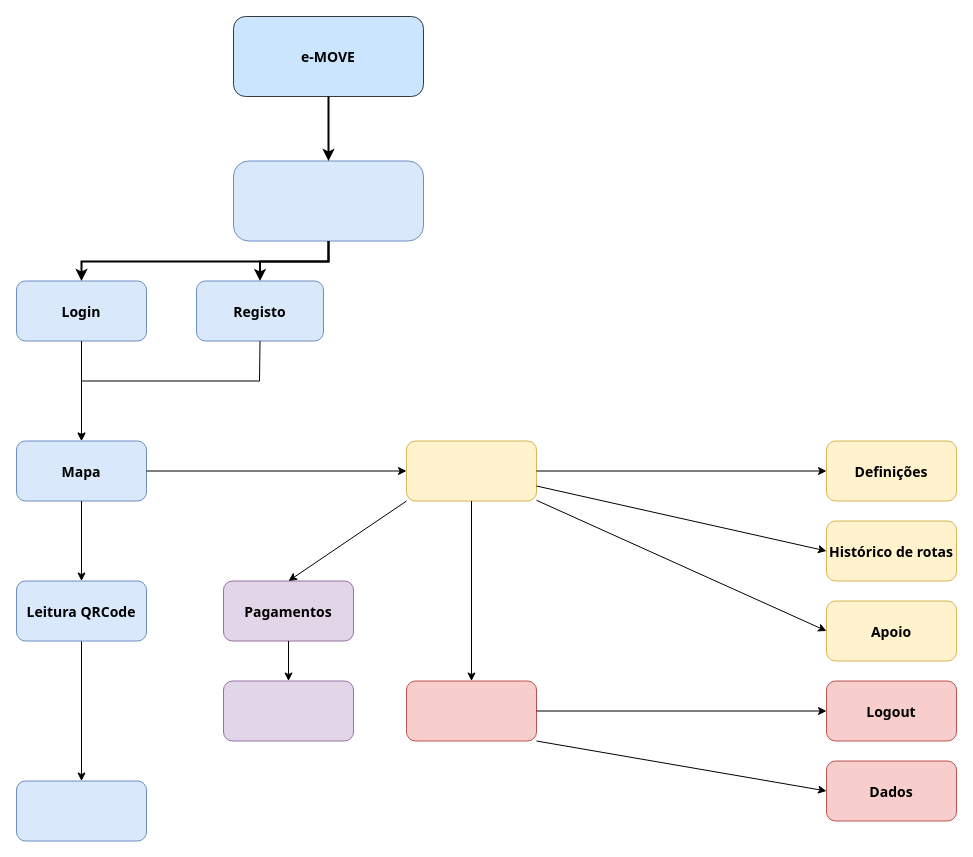
Some shapes in this 973 by 857 pixel diagram are drawn without their labels. The shapes that lost their labels are listed below. From the top down, each one's box as (x1, y1, x2, y2) in pixels, then its label:
(232, 160, 424, 241): Splash Screen
(406, 440, 536, 501): Menu
(222, 680, 354, 741): Saldo
(406, 680, 536, 741): Perfil
(16, 780, 146, 841): Aluger
